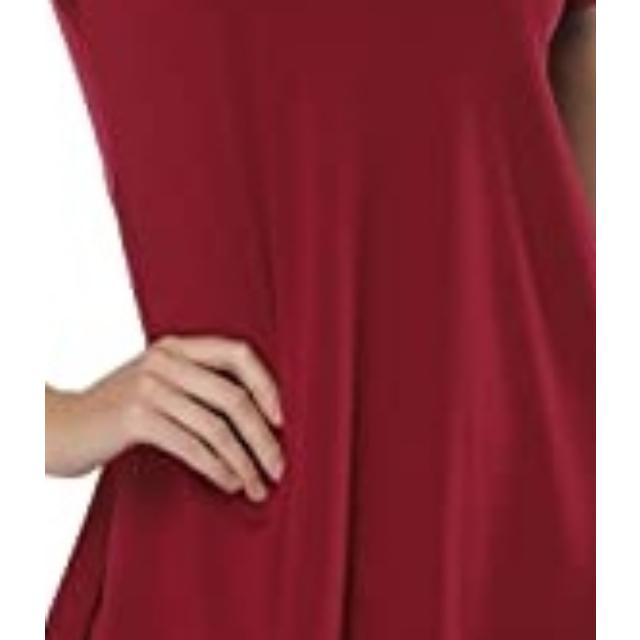polyester: (56, 0, 594, 640)
